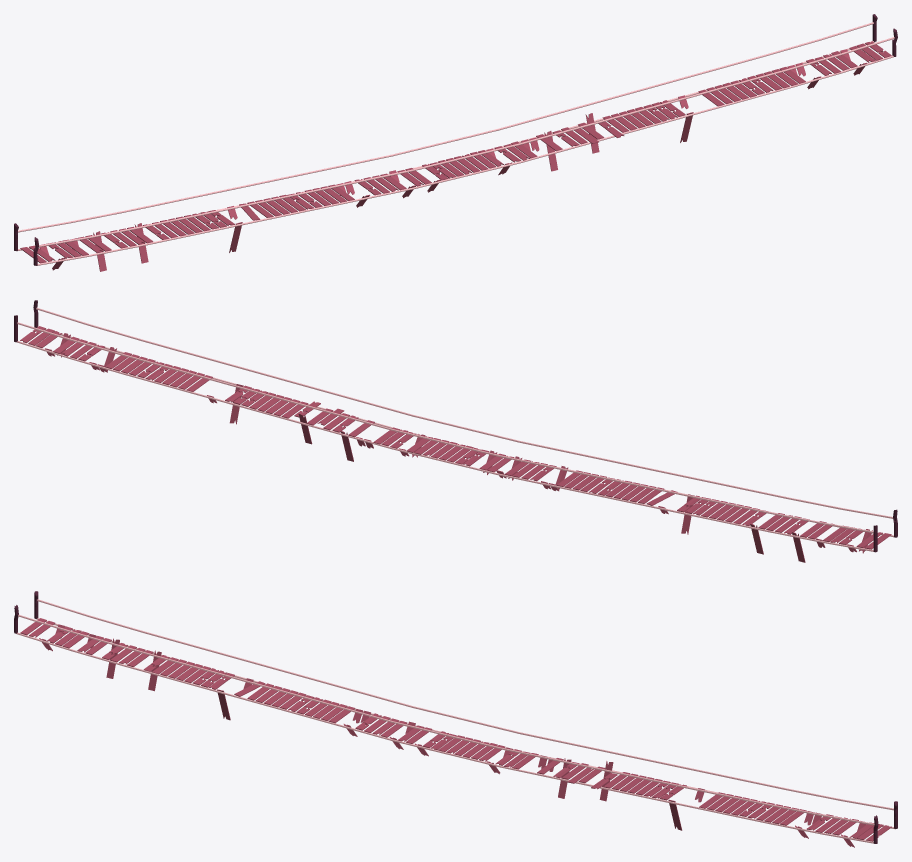
The model's file is bridge_002_grp.fbx.
The picture shows the model from 3 angles, top to bottom: view 1: azimuth 30°, elevation 25°; view 2: azimuth 150°, elevation 25°; view 3: azimuth 330°, elevation 25°; orthographic projection.
Parts seen in each view (by area): view 1: bridge_002_grp; view 2: bridge_002_grp; view 3: bridge_002_grp.
Boxes of the visible parts, bbox=[...] form: bridge_002_grp: bbox=[14, 14, 897, 271]; bridge_002_grp: bbox=[14, 300, 897, 562]; bridge_002_grp: bbox=[14, 591, 897, 847].
Size of the model in its own units: 5000 by 400 by 250.
